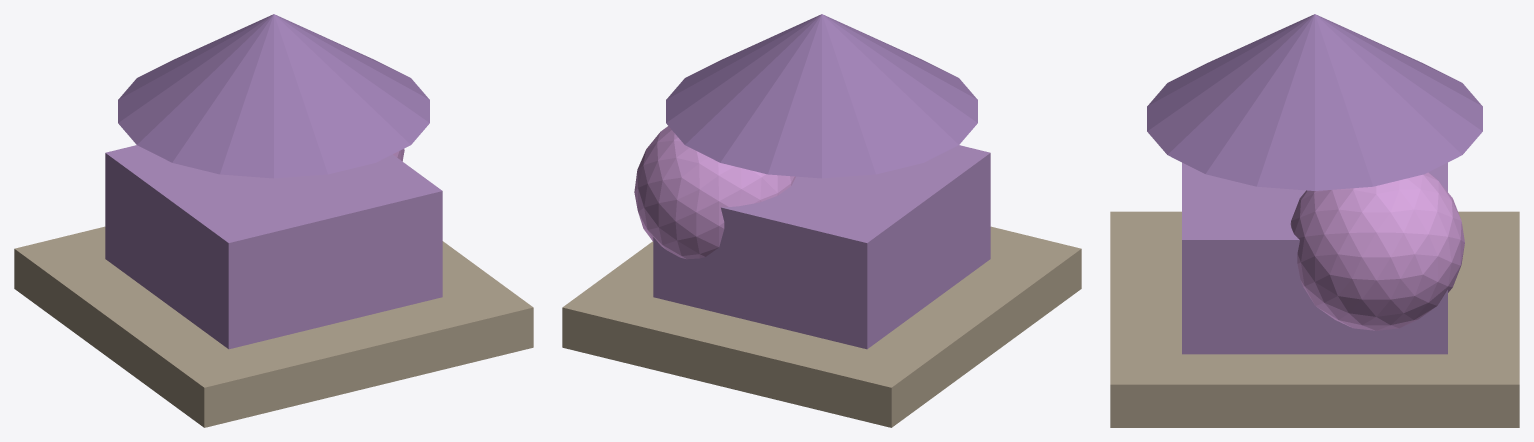
File: elixir.glb
3 views of the same model, side by side, from view 1: azimuth 30°, elevation 25°; view 2: azimuth 150°, elevation 25°; view 3: azimuth 270°, elevation 25° (orthographic). The views are drawn at different scales.
Parts seen in each view (by area): view 1: g1, g0, g3; view 2: g0, g1, g3, g2; view 3: g0, g3, g1, g2.
Boxes of the visible parts, bbox=[...] form: g1: bbox=[105, 145, 442, 349]; g0: bbox=[14, 226, 533, 427]; g3: bbox=[118, 14, 429, 178]; g0: bbox=[562, 226, 1081, 427]; g1: bbox=[653, 145, 990, 349]; g3: bbox=[666, 14, 977, 178]; g2: bbox=[634, 126, 795, 259]; g0: bbox=[1110, 211, 1519, 427]; g3: bbox=[1147, 14, 1482, 190]; g1: bbox=[1182, 162, 1447, 354]; g2: bbox=[1290, 172, 1464, 330].
Size of the model in its own units: 1.2 by 1.06 by 1.2.
